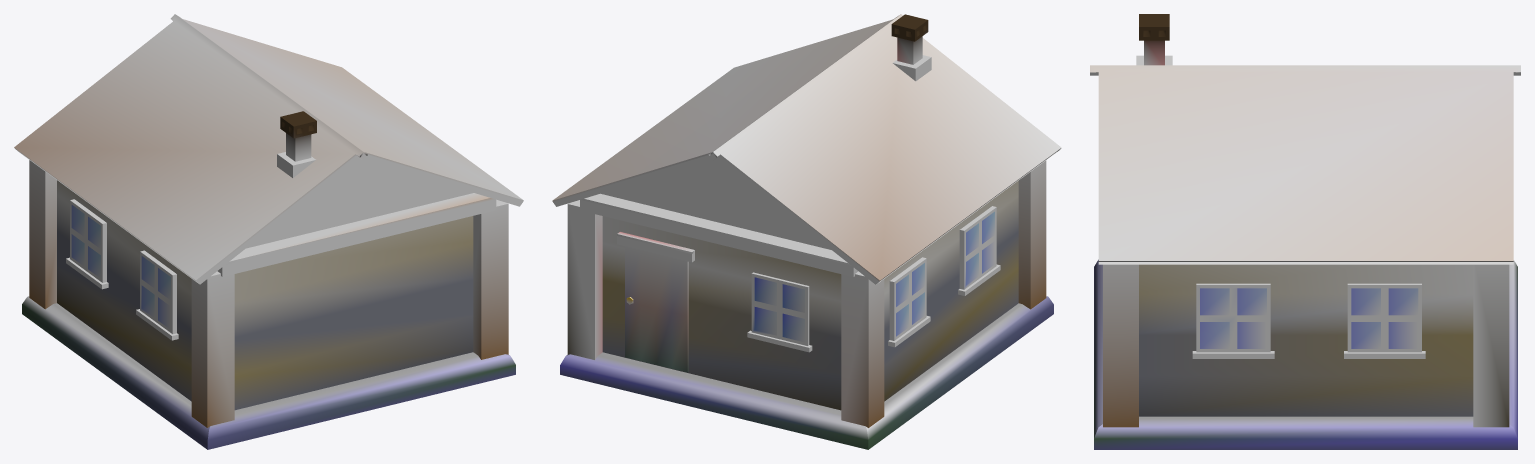
Rendered from HouseBigV3Test.fbx.
3 views of the same model, side by side, from view 1: azimuth 30°, elevation 25°; view 2: azimuth 150°, elevation 25°; view 3: azimuth 270°, elevation 25° (orthographic). The views are drawn at different scales.
Visible parts, largest first — view 1: House; view 2: House; view 3: House.
Part boxes in pixels (x1,y1,x2,y2): House: (14, 14, 523, 449); House: (552, 14, 1061, 449); House: (1090, 14, 1520, 449).
Bounding box in the file's own units: 479 × 395 × 477.
